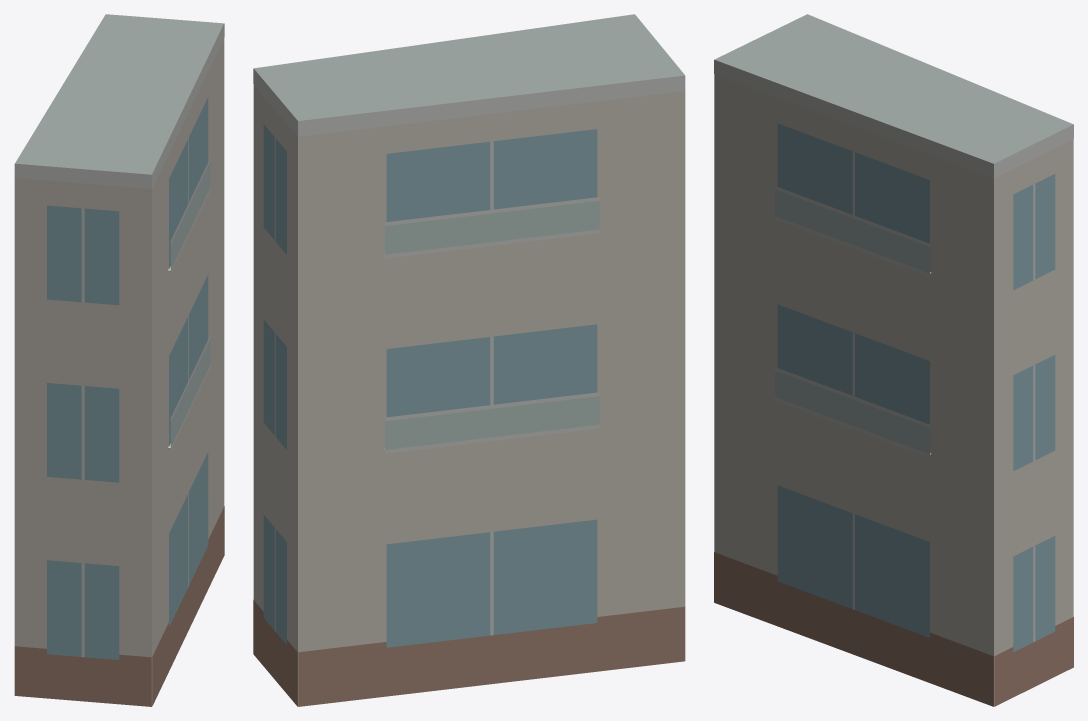
File: survey-upis-33021331.glb
The picture shows the model from 3 angles, left to right: view 1: azimuth 30°, elevation 25°; view 2: azimuth 150°, elevation 25°; view 3: azimuth 270°, elevation 25°; orthographic projection. The views are drawn at different scales.
Parts seen in each view (by area): view 1: survey-upis-33021331.tmp; view 2: survey-upis-33021331.tmp; view 3: survey-upis-33021331.tmp.
Boxes of the visible parts, bbox=[...] form: survey-upis-33021331.tmp: bbox=[14, 14, 224, 706]; survey-upis-33021331.tmp: bbox=[253, 14, 685, 706]; survey-upis-33021331.tmp: bbox=[714, 14, 1073, 706].
Bounding box in the file's own units: 5.42 × 9.15 × 5.5.
